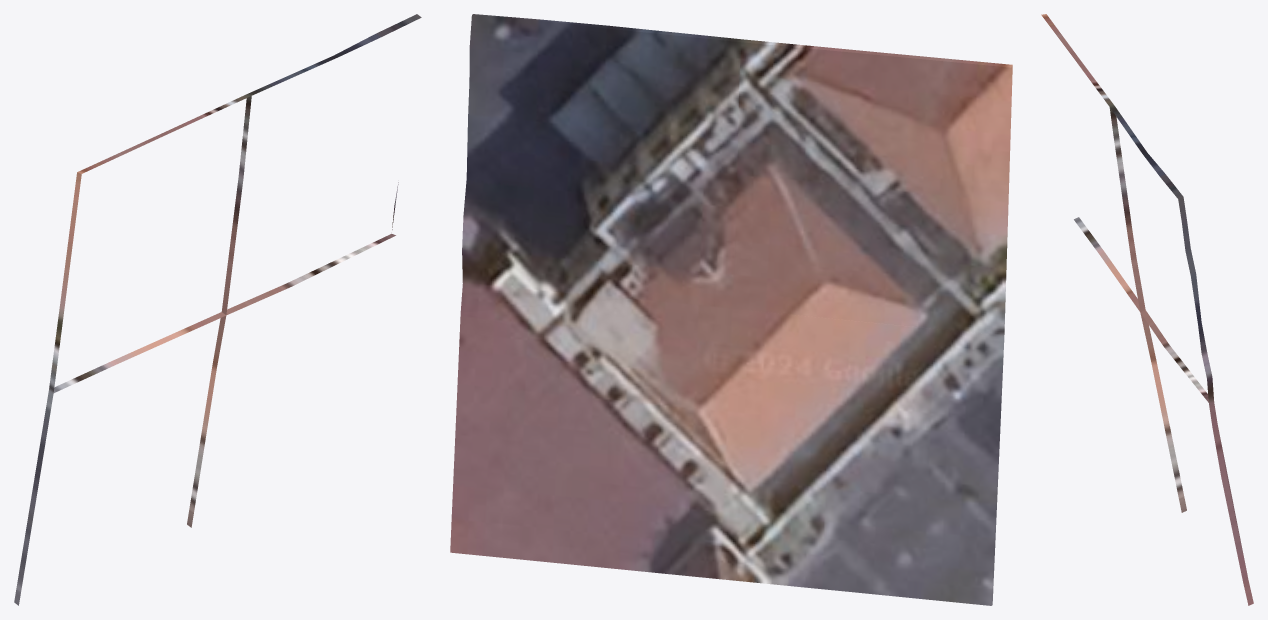
3 renders of one model, left to right at view 1: azimuth 30°, elevation 25°; view 2: azimuth 150°, elevation 25°; view 3: azimuth 270°, elevation 25°, orthographic. The views are drawn at different scales.
Size of the model in its own units: 37.8 by 37.66 by 17.43.
1 material, 1 textured.
